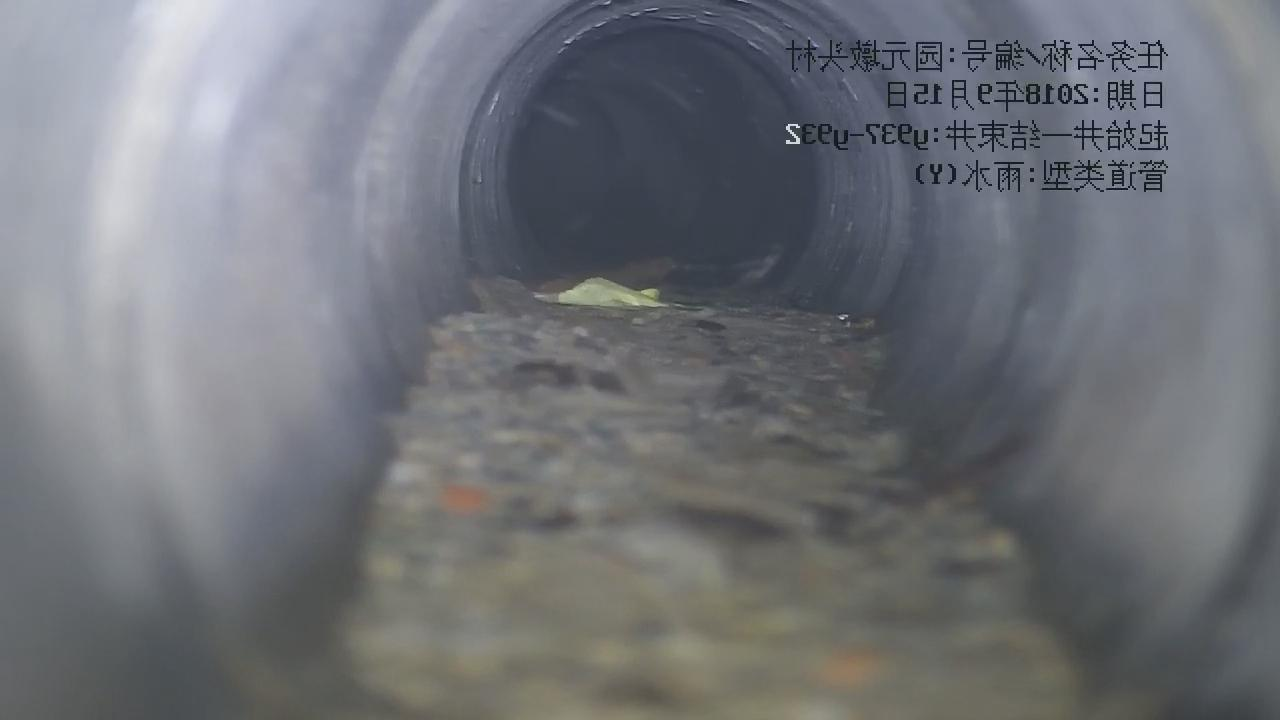CJ: (344, 278, 1081, 719)
